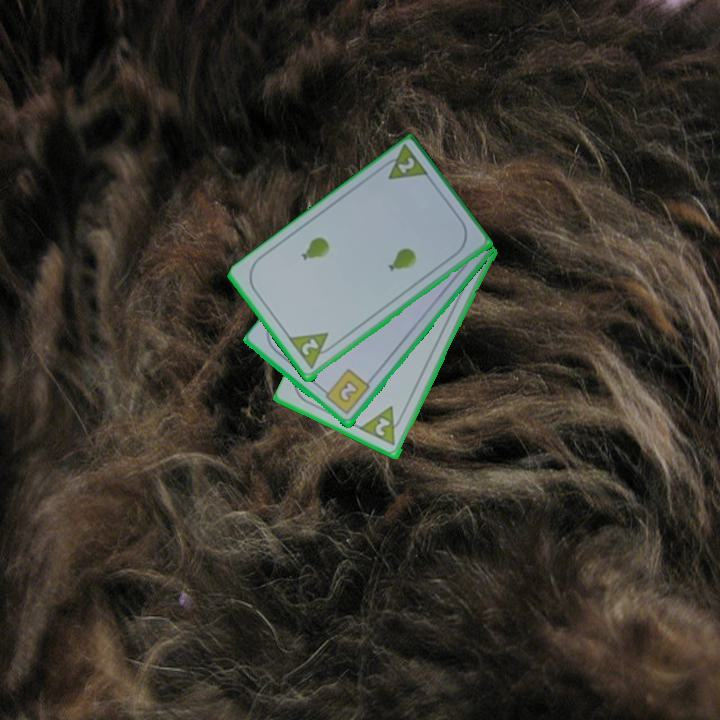2b: (318, 366, 373, 418)
2p: (297, 335, 322, 359), (394, 154, 418, 177), (372, 414, 393, 440)
